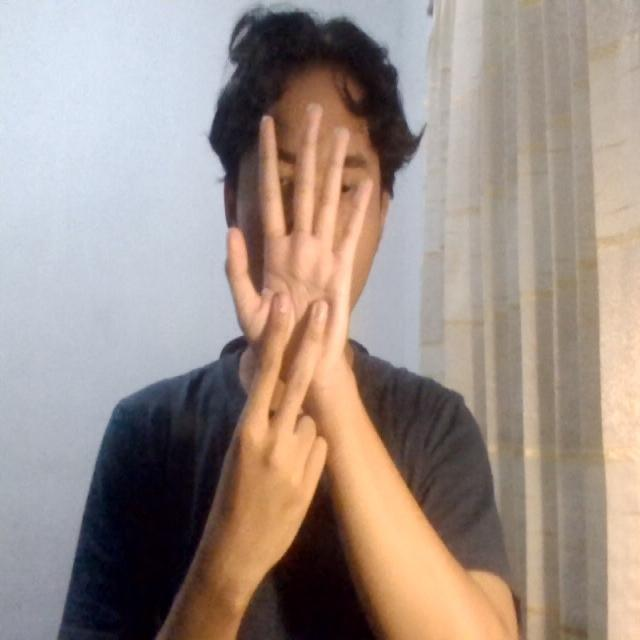IloveYou: (174, 81, 426, 519)
